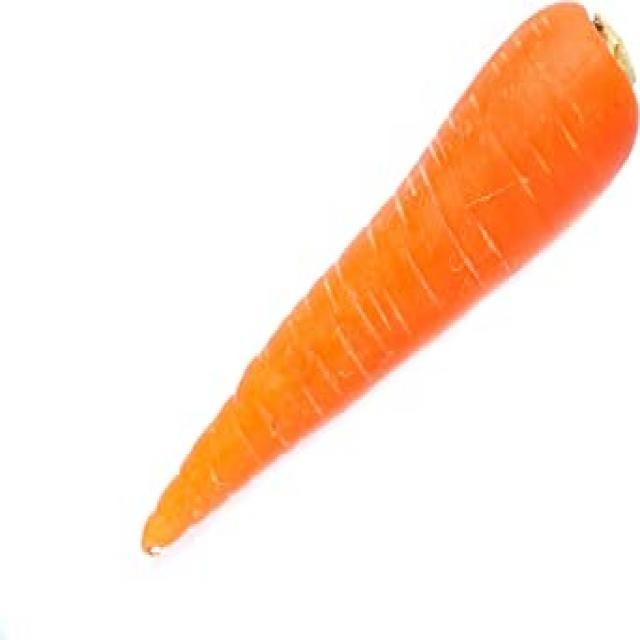Carrot: (135, 4, 640, 567)
